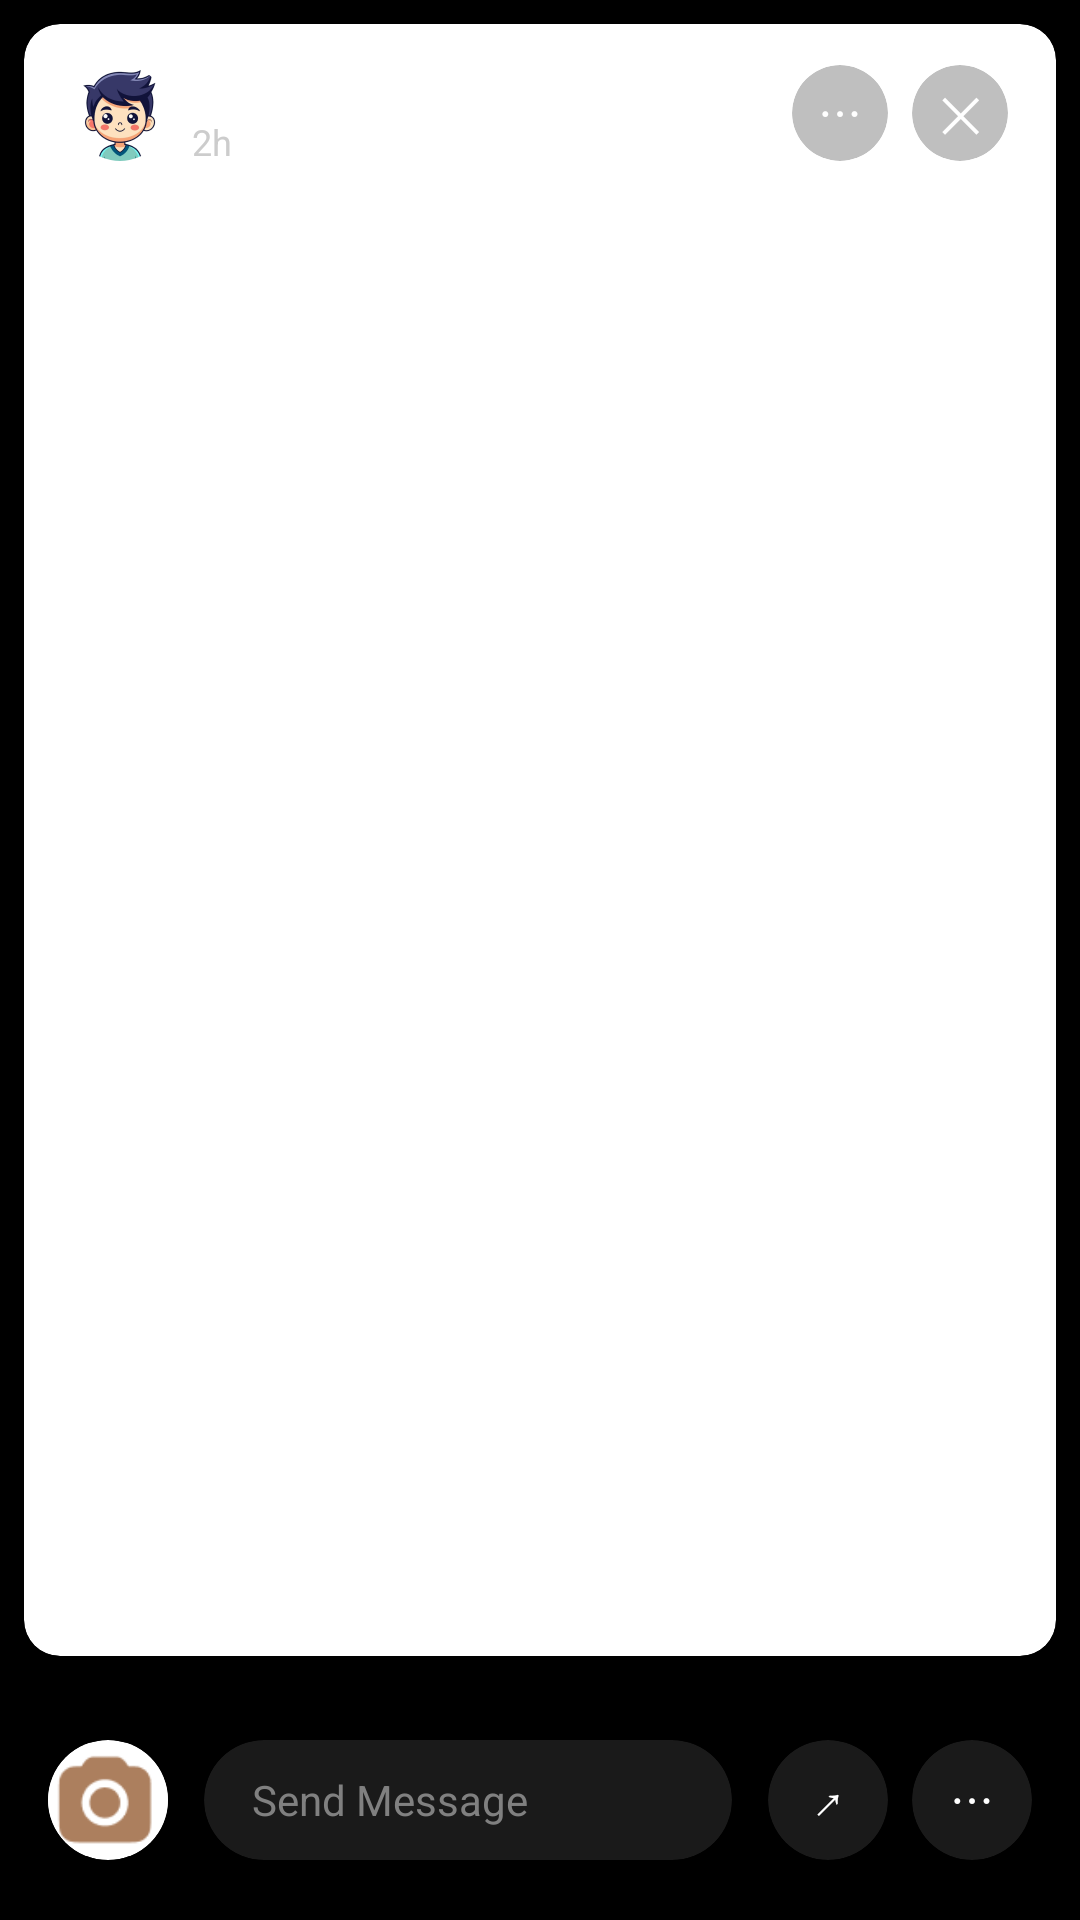

Named icons in this screenshot (1080w x 1920h) and their bounding boxes, (x1, y1, x2, y2):
camera: (48, 1740, 168, 1860)
